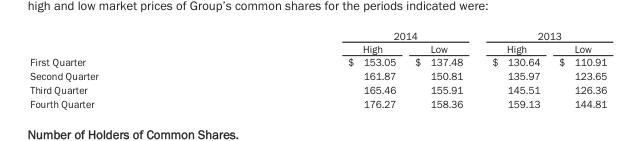table: (29, 29, 606, 109)
table column: (29, 29, 222, 109), (222, 29, 404, 109), (404, 29, 476, 109), (476, 29, 548, 109), (548, 29, 606, 109)
table column header: (29, 29, 606, 54)
table row: (29, 54, 606, 68), (29, 68, 606, 82), (29, 82, 606, 96), (29, 41, 606, 54), (29, 96, 606, 109), (29, 29, 606, 41)
table spanning cell: (222, 29, 476, 41), (476, 29, 606, 41)
